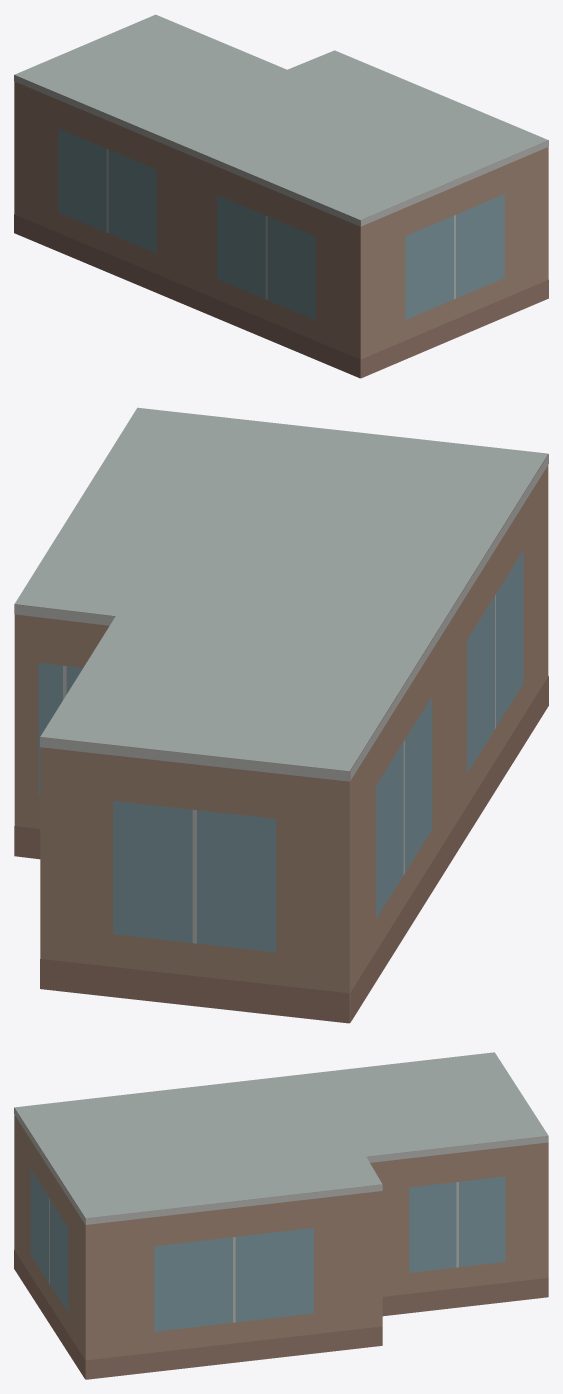
The model's file is survey-upis-32694393.glb.
The picture shows the model from 3 angles, top to bottom: view 1: azimuth 30°, elevation 25°; view 2: azimuth 150°, elevation 25°; view 3: azimuth 270°, elevation 25°; orthographic projection. The views are drawn at different scales.
Parts seen in each view (by area): view 1: survey-upis-32694393.tmp; view 2: survey-upis-32694393.tmp; view 3: survey-upis-32694393.tmp.
Part boxes in pixels (box(x1,y1,x2,y2)): survey-upis-32694393.tmp: box(14, 14, 548, 378); survey-upis-32694393.tmp: box(14, 407, 548, 1023); survey-upis-32694393.tmp: box(14, 1052, 548, 1379).
Size of the model in its own units: 6.75 by 3.05 by 9.17.
